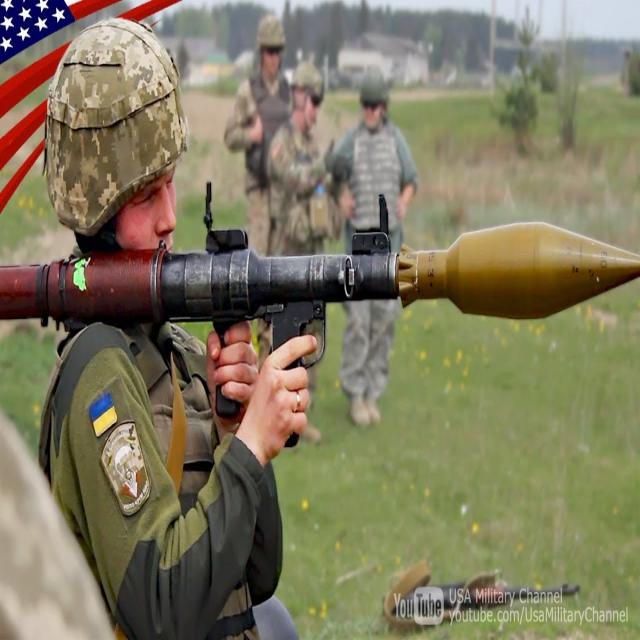bazooka: (1, 224, 640, 328)
